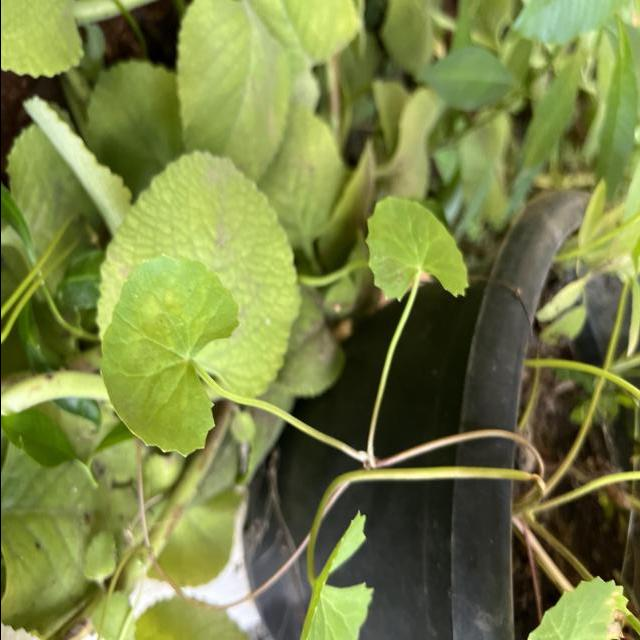Centella asiatica: (95, 244, 242, 462)
